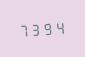four: (54, 19, 65, 35)
nine: (42, 20, 53, 36)
seven: (18, 21, 29, 37)
three: (30, 20, 41, 37)
